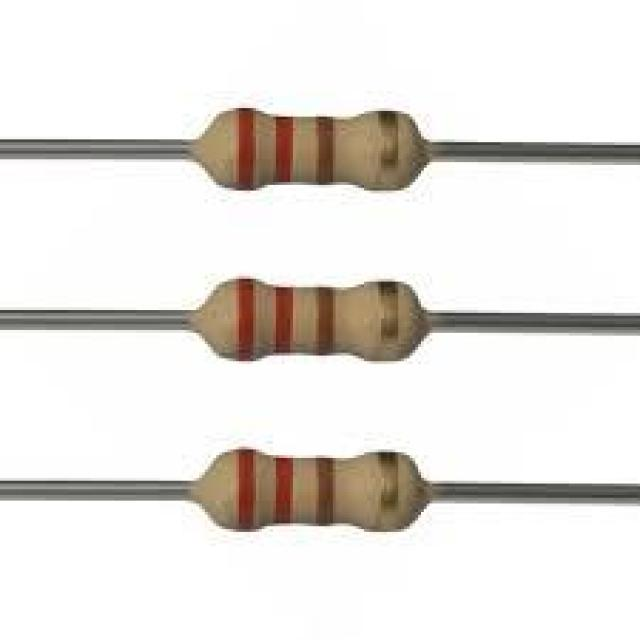Resistor: (148, 97, 466, 222), (168, 264, 449, 390), (173, 444, 450, 554)
